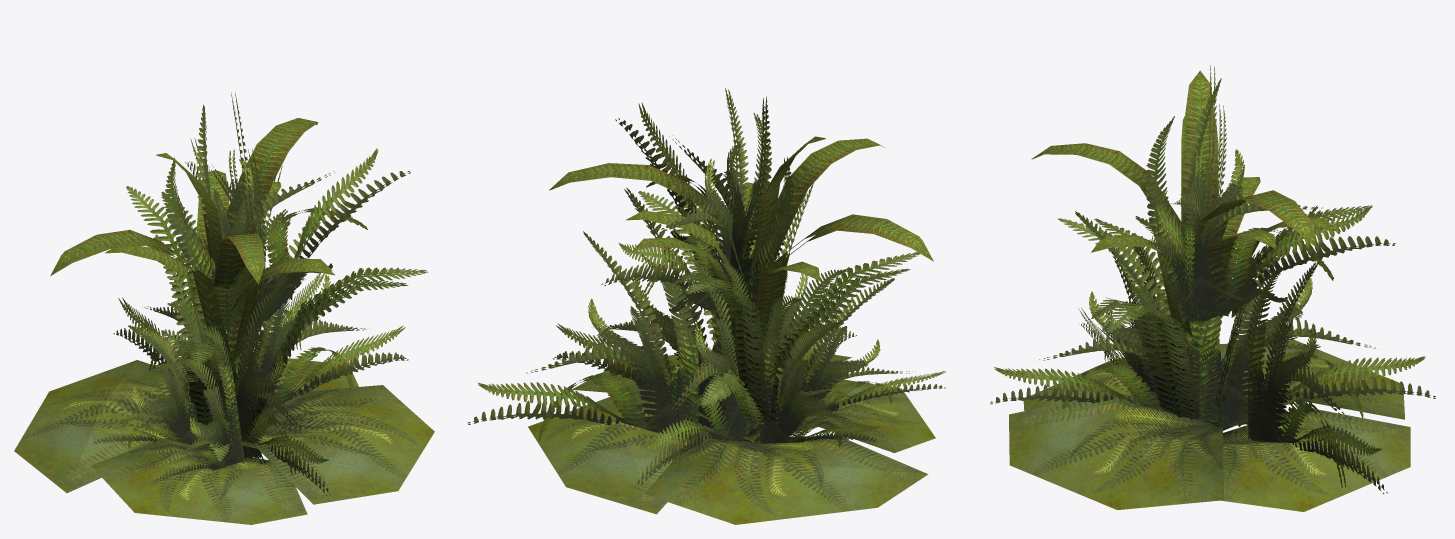
The model's file is frst_fern_olive_tall_l1.fbx.
3 renders of one model, left to right at view 1: azimuth 30°, elevation 25°; view 2: azimuth 150°, elevation 25°; view 3: azimuth 270°, elevation 25°, orthographic. The views are drawn at different scales.
Visible parts, largest first — view 1: mesh_node; view 2: mesh_node; view 3: mesh_node.
Part boxes in pixels (x1,y1,x2,y2): mesh_node: (14, 92, 434, 524); mesh_node: (468, 88, 945, 524); mesh_node: (990, 65, 1435, 511).
Size of the model in its own units: 3.66 by 3.98 by 3.69.
